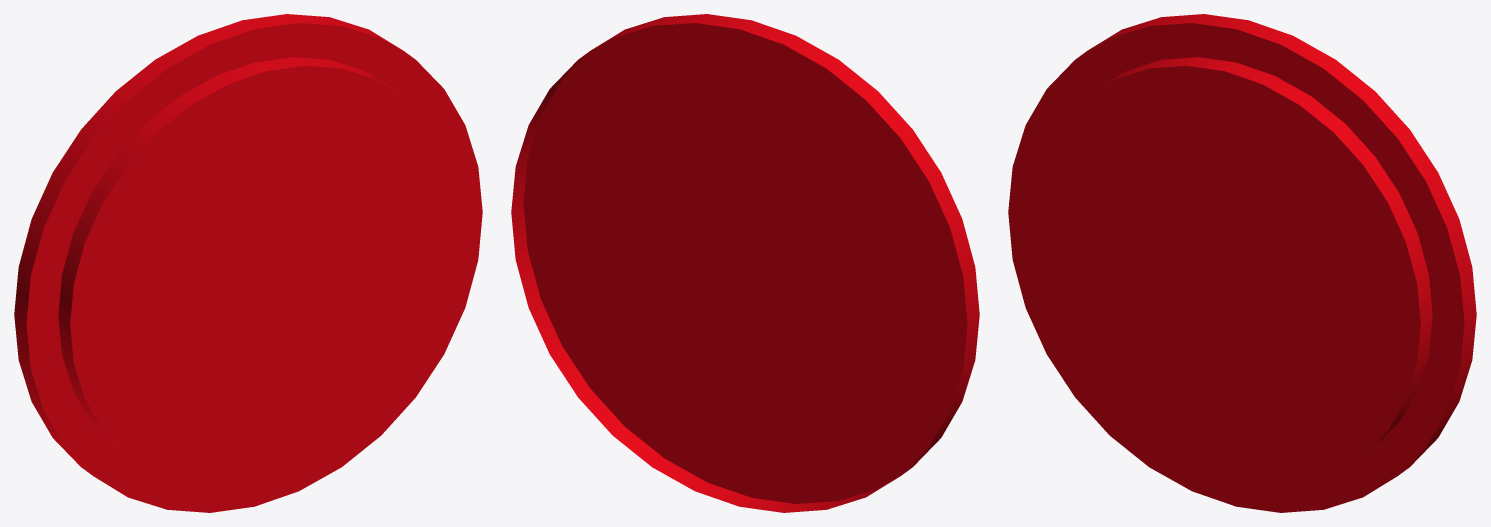
File: escalones.fbx
The picture shows the model from 3 angles, left to right: view 1: azimuth 30°, elevation 25°; view 2: azimuth 150°, elevation 25°; view 3: azimuth 330°, elevation 25°; orthographic projection.
Visible parts, largest first — view 1: altarescalon1, altarescalon2; view 2: altarescalon2; view 3: altarescalon1, altarescalon2.
Boxes of the visible parts, x1=… form: altarescalon1: x1=58, y1=57, x2=462, y2=487; altarescalon2: x1=14, y1=14, x2=482, y2=512; altarescalon2: x1=511, y1=14, x2=979, y2=512; altarescalon1: x1=1028, y1=57, x2=1432, y2=487; altarescalon2: x1=1008, y1=14, x2=1476, y2=512.
Size of the model in its own units: 426 by 426 by 38.89.
